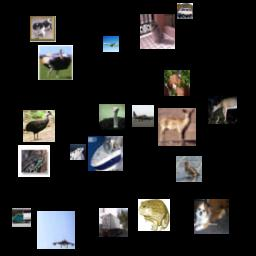airplane: (37, 211, 75, 249), (132, 105, 154, 127), (103, 36, 119, 52)
automobile: (177, 3, 193, 19)
bird: (38, 45, 73, 80), (23, 110, 55, 142), (99, 104, 125, 130), (176, 156, 202, 182)
cat: (140, 14, 175, 49)
deer: (158, 108, 196, 146), (208, 95, 237, 124)
dog: (194, 199, 229, 234), (30, 16, 56, 42), (164, 70, 190, 96)
frog: (138, 199, 170, 231), (18, 145, 50, 177)
ship: (88, 136, 123, 171), (70, 144, 86, 160)
truck: (99, 208, 128, 237), (12, 208, 31, 227)
